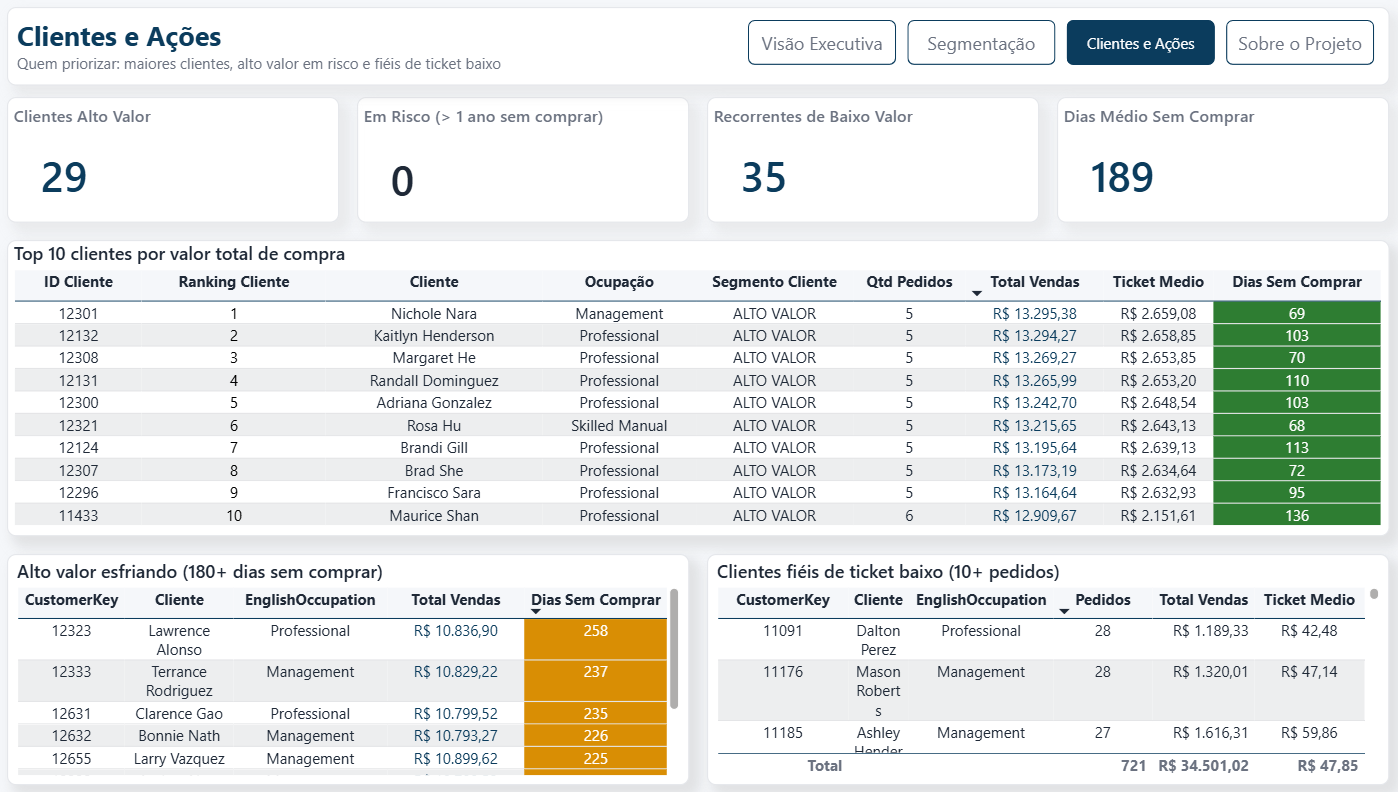

This screenshot's page, from the dashboard's own definition file:
{"tool":"powerbi","page":{"name":"Clientes e Ações","canvas":[1280,720],"ordinal":2},"visuals":[{"type":"cardVisual","title":"Em Risco (> 1 ano sem comprar)","fields":{"Data":["# Medidas.Clientes Alto Valor em Risco"]},"box":[336,96,296,112],"z":0},{"type":"textbox","box":[24.2,16.2,1231.7,70],"z":1000},{"type":"cardVisual","title":"Clientes Alto Valor","fields":{"Data":["# Medidas.Teste Filtro"]},"box":[24,96,296,112],"z":2000},{"type":"cardVisual","title":"Recorrentes de Baixo Valor","fields":{"Data":["# Medidas.Clientes Recorrentes Baixo Valor"]},"box":[648,96,296,112],"z":3000},{"type":"cardVisual","title":"Dias Médio Sem Comprar","fields":{"Data":["# Medidas.Dias Medio Sem Comprar"]},"box":[960,96,296,112],"z":4000},{"type":"tableEx","title":"Top 10 clientes por valor total de compra","fields":{"Values":["DimCustomer.CustomerKey","# Medidas.Ranking Cliente","DimCustomer.Cliente","DimCustomer.EnglishOccupation","DimCustomer.Segmento Cliente","# Medidas.Qtd Pedidos","# Medidas.Total Vendas","# Medidas.Ticket Medio","# Medidas.Dias Sem Comprar"]},"box":[24,224,1232,264],"z":5000},{"type":"tableEx","title":"Alto valor esfriando (180+ dias sem comprar)","fields":{"Values":["DimCustomer.CustomerKey","DimCustomer.Cliente","DimCustomer.EnglishOccupation","# Medidas.Total Vendas","# Medidas.Dias Sem Comprar"]},"box":[24.2,503.6,607.8,206.5],"z":6000},{"type":"tableEx","title":"Clientes fiéis de ticket baixo (10+ pedidos)","fields":{"Values":["DimCustomer.CustomerKey","DimCustomer.Cliente","DimCustomer.EnglishOccupation","# Medidas.Qtd Pedidos Historico","# Medidas.Total Vendas","# Medidas.Ticket Medio"]},"box":[648.2,503.6,607.8,206.5],"z":7000},{"type":"pageNavigator","box":[684,28,560,40],"z":8000}]}

Visuals, with their boxes in screenshot pixels (x1, y1, x2, y2), scaled from the page's 1280x720 canvas onto the 1398x792 screenshot:
"Em Risco (> 1 ano sem comprar)" cardVisual: 367:106:690:229
textbox: 26:18:1372:95
"Clientes Alto Valor" cardVisual: 26:106:350:229
"Recorrentes de Baixo Valor" cardVisual: 708:106:1031:229
"Dias Médio Sem Comprar" cardVisual: 1048:106:1372:229
"Top 10 clientes por valor total de compra" tableEx: 26:246:1372:537
"Alto valor esfriando (180+ dias sem comprar)" tableEx: 26:554:690:781
"Clientes fiéis de ticket baixo (10+ pedidos)" tableEx: 708:554:1372:781
pageNavigator: 747:31:1359:75
